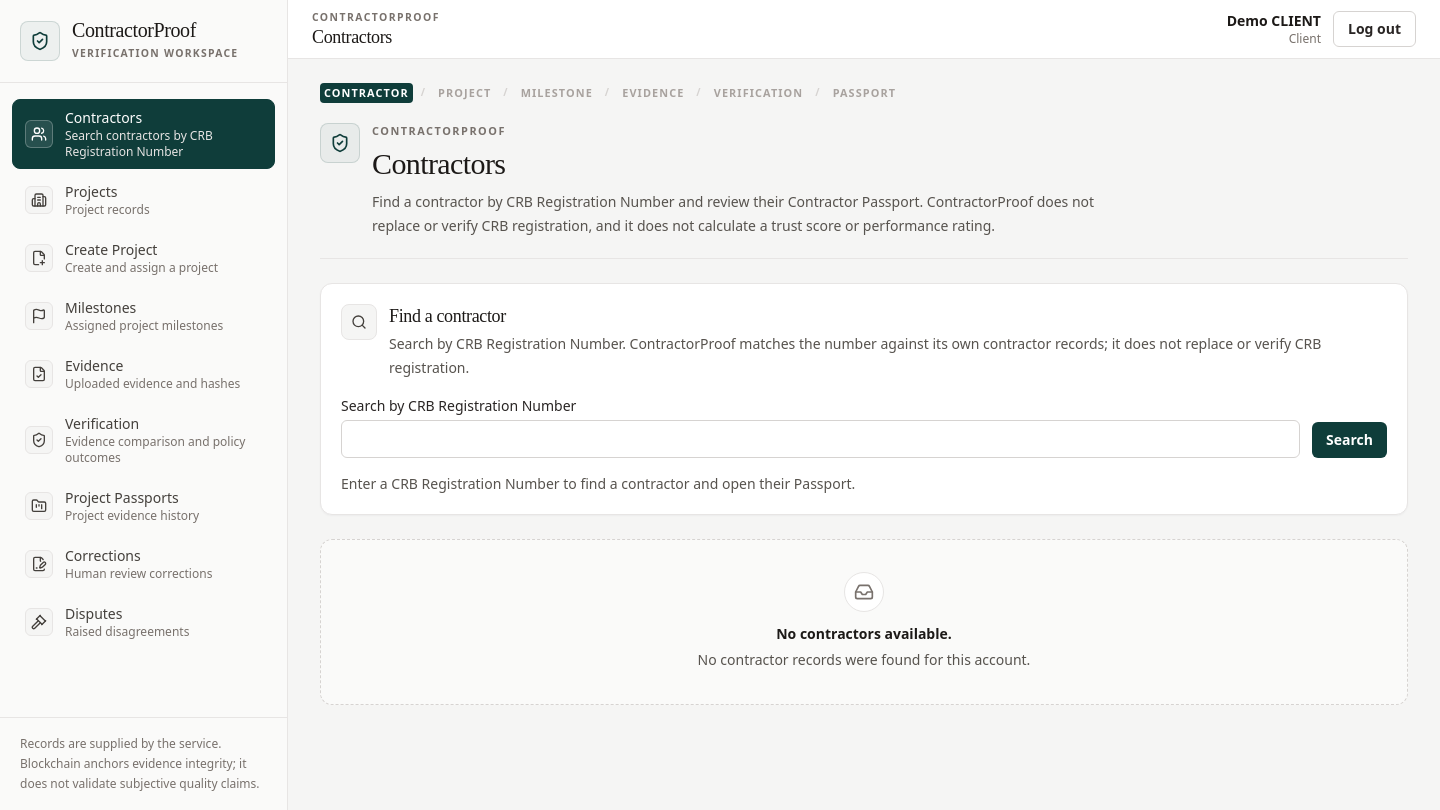
Test: CRB contractor discovery › renders the found contractor with the registration detail a client decides on
Type "CRB-204" into the field labelled "Search by CRB Registration Number" at [821, 440], box [341,420,1300,458]
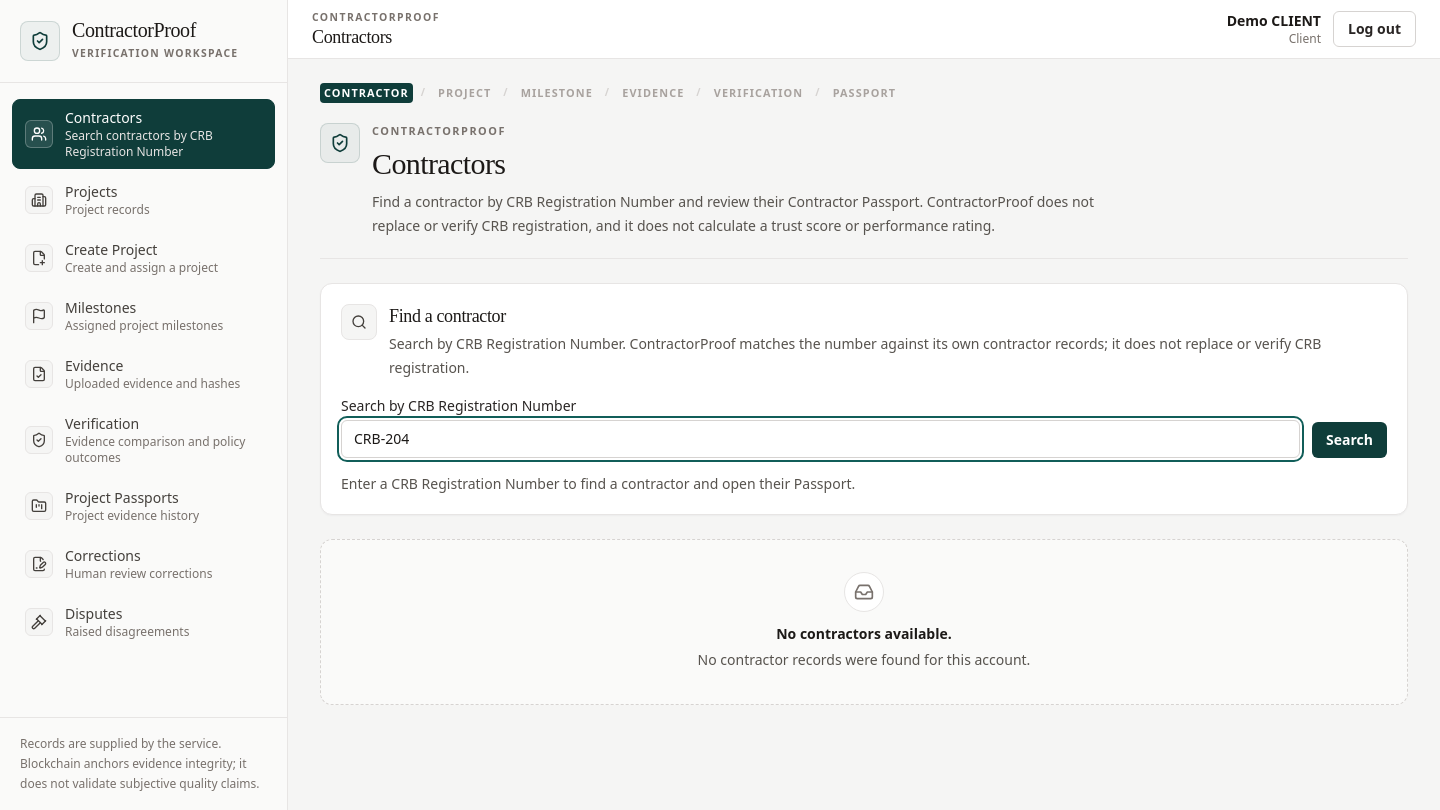
Click the button "Search" at [1350, 440], box [1312,422,1387,458]
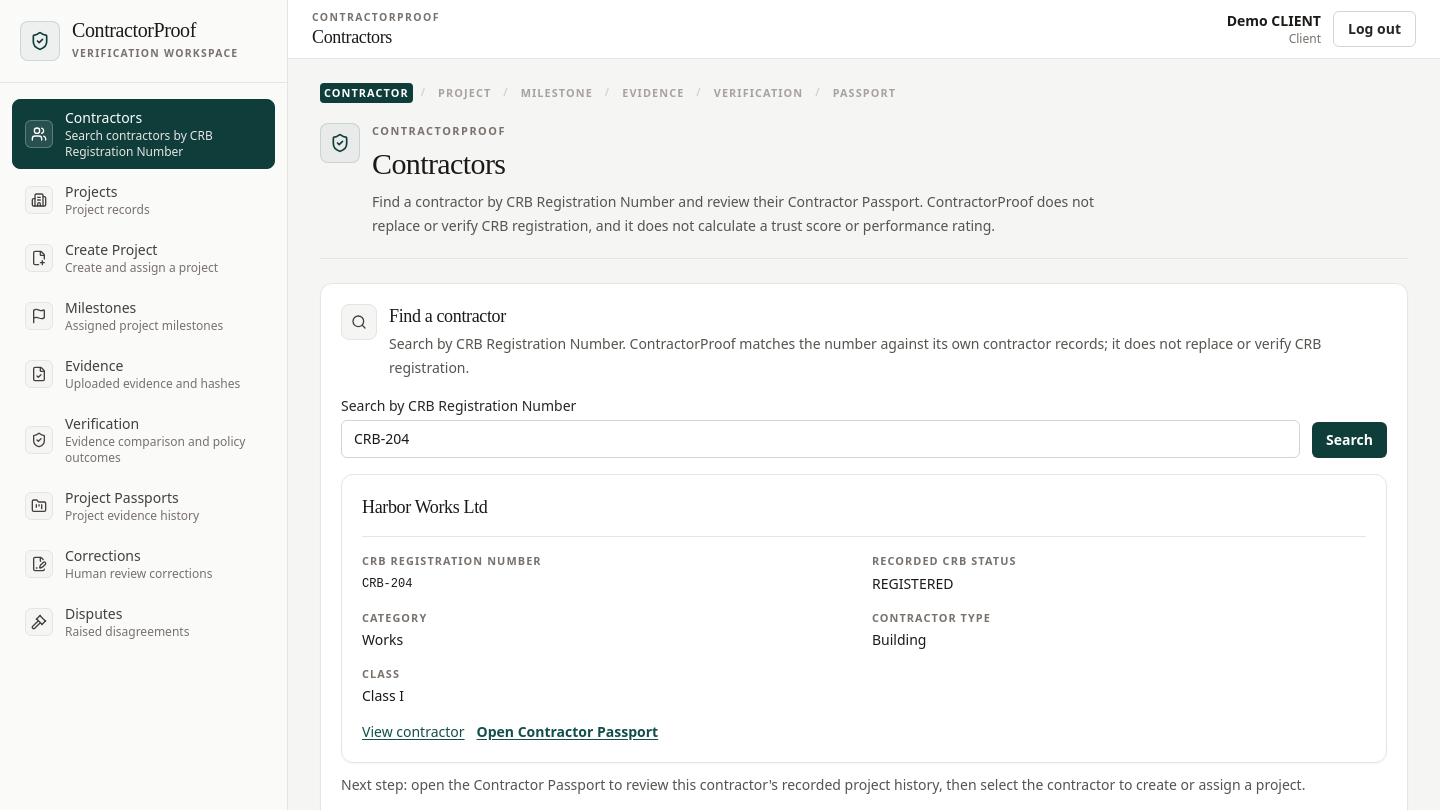
Now the heading "Harbor Works Ltd" is shown, box [362,498,487,518]
Now the text "CRB-204" is shown, box [362,576,412,590]
Now the text "REGISTERED" is shown, box [872,574,953,592]
